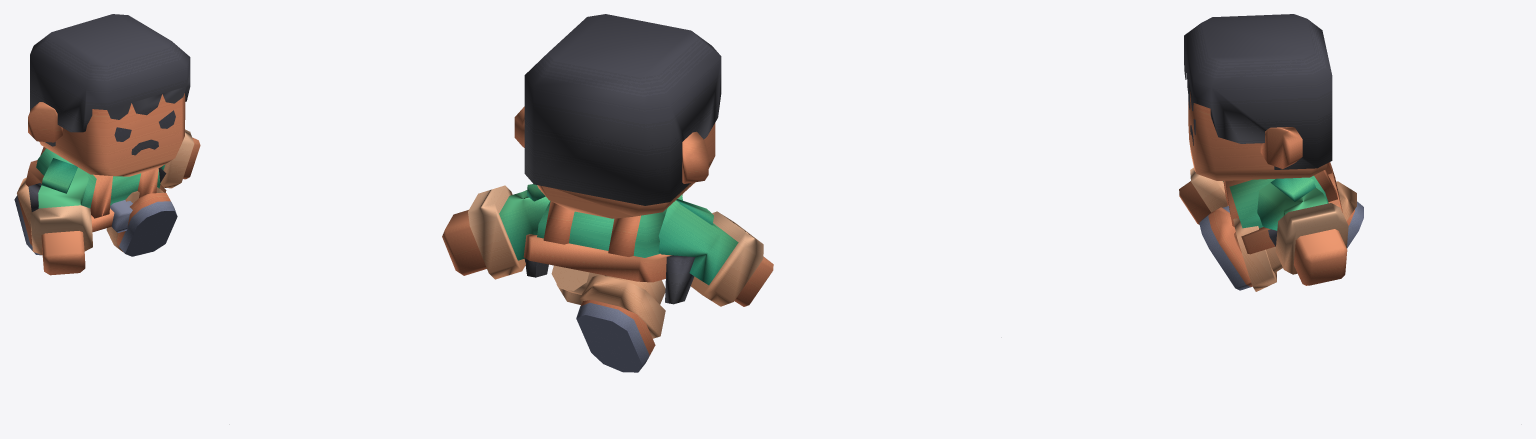
Rendered from crowdA_sprint_3.glb.
3 views of the same model, side by side, from view 1: azimuth 30°, elevation 25°; view 2: azimuth 150°, elevation 25°; view 3: azimuth 270°, elevation 25° (orthographic). The views are drawn at different scales.
Visible parts, largest first — view 1: crowdA-sprint-3; view 2: crowdA-sprint-3; view 3: crowdA-sprint-3.
Boxes of the visible parts, x1=… form: crowdA-sprint-3: x1=14, y1=14, x2=200, y2=275; crowdA-sprint-3: x1=442, y1=14, x2=773, y2=372; crowdA-sprint-3: x1=1179, y1=14, x2=1363, y2=291.
Size of the model in its own units: 1.2 by 0.7666 by 1.2.
Materials: 1 (1 with a texture image).
